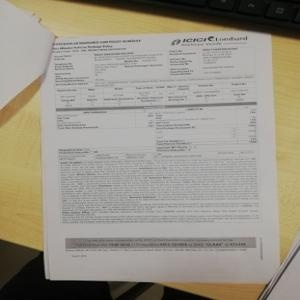image: (169, 32, 255, 48)
table: (57, 100, 259, 149), (56, 80, 257, 106)
text: (62, 156, 260, 217), (53, 37, 142, 51)
